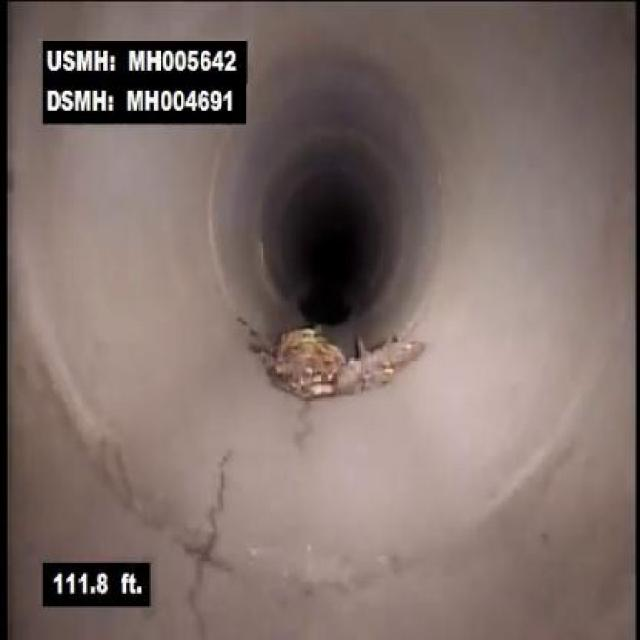Debris: (260, 314, 380, 415)
